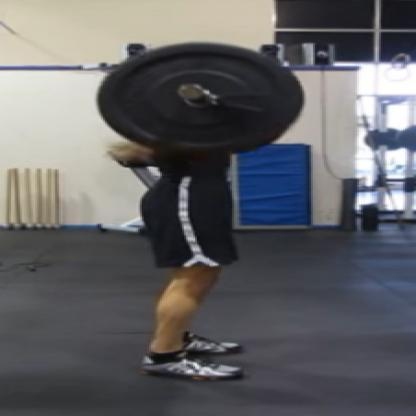barbell: (97, 41, 307, 159)
